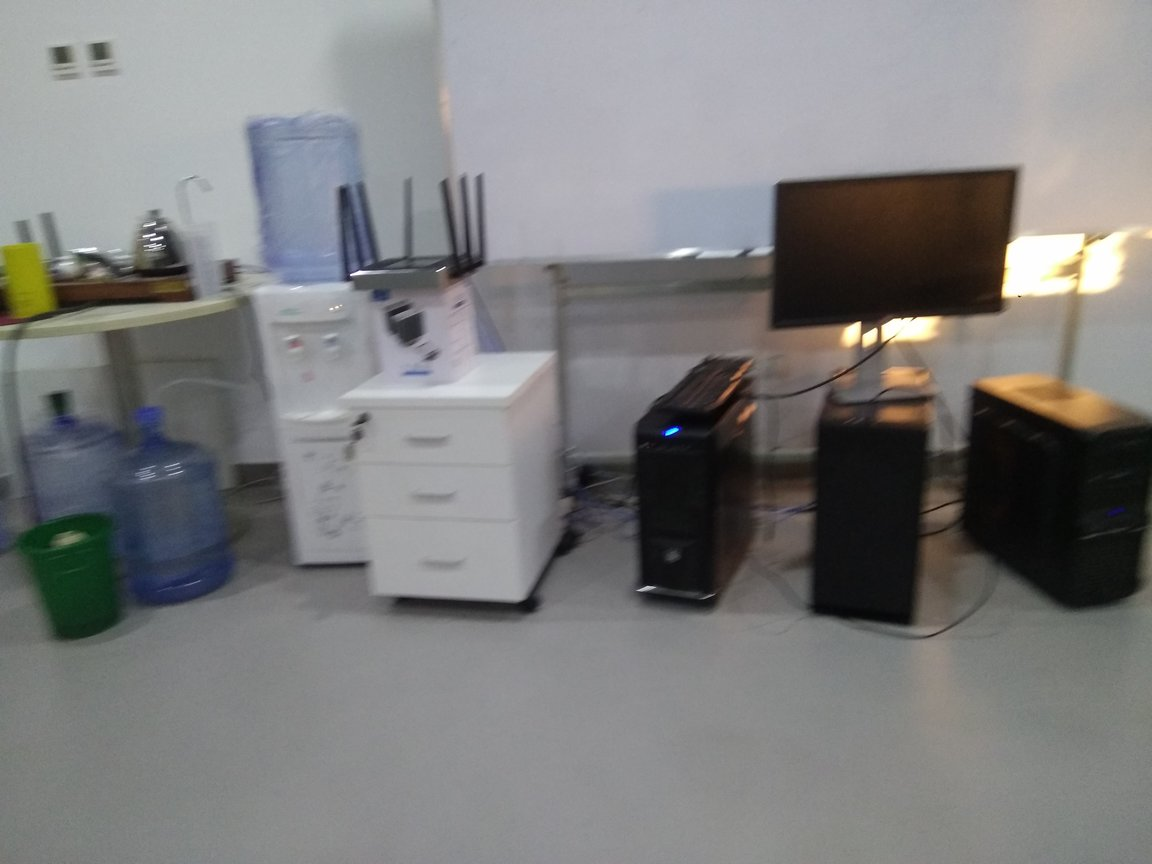computer: (960, 373, 1152, 612), (813, 377, 931, 652), (625, 371, 751, 616)
drawer chest: (343, 350, 579, 623)
monitor: (768, 165, 1029, 402)
scuttlebutt: (114, 405, 231, 604), (248, 116, 393, 276), (21, 391, 134, 567)
water dispenser: (253, 277, 383, 590)
